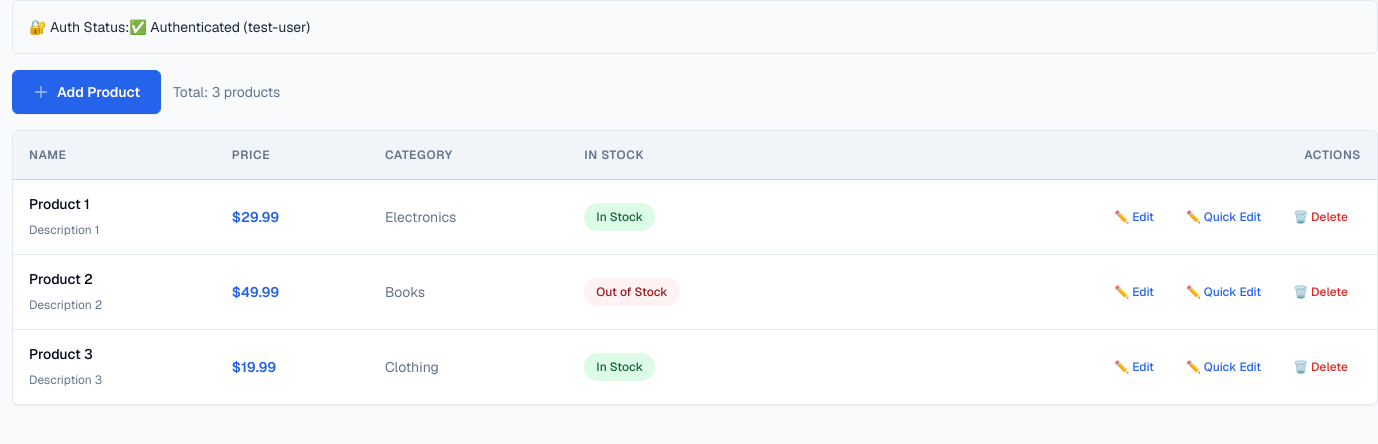
Test: ProductList Component › Quick Edit (Inline) › should enter inline edit mode when Quick Edit is clicked
This screenshot has width=1378, height=444.
Expected: the text "Product 1" is shown, [29, 195, 90, 213]
Click the button "✏️ Quick Edit" in the row of "Product 1" at point(1224, 217), box [1173, 200, 1274, 234]
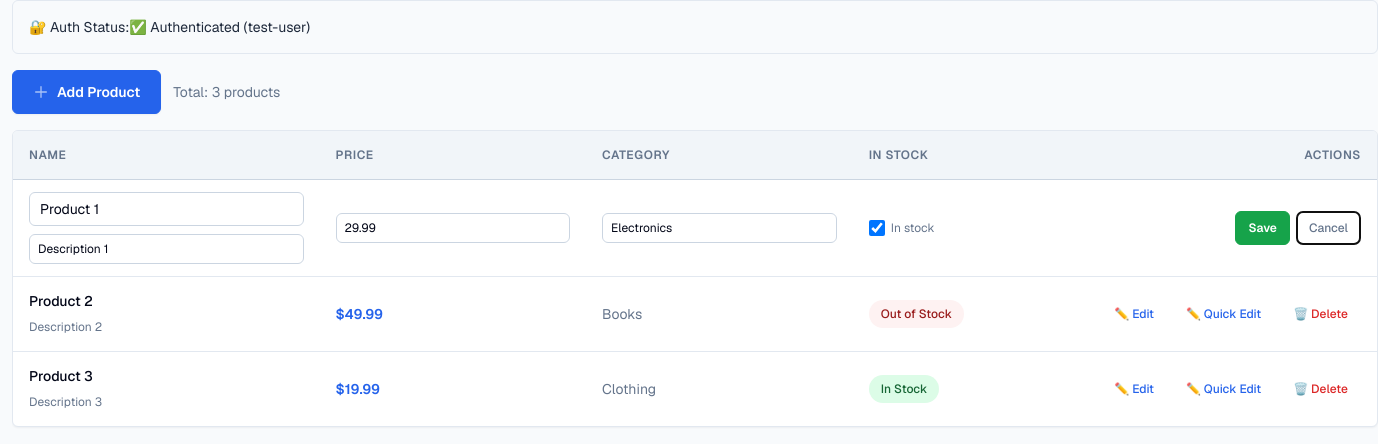
Now the 1st field showing "Product 1" is shown, box [29, 192, 304, 226]
Now the number field showing "29.99" is shown, box [336, 213, 570, 243]
Now the 3rd field showing "Description 1" is shown, box [29, 234, 304, 264]
